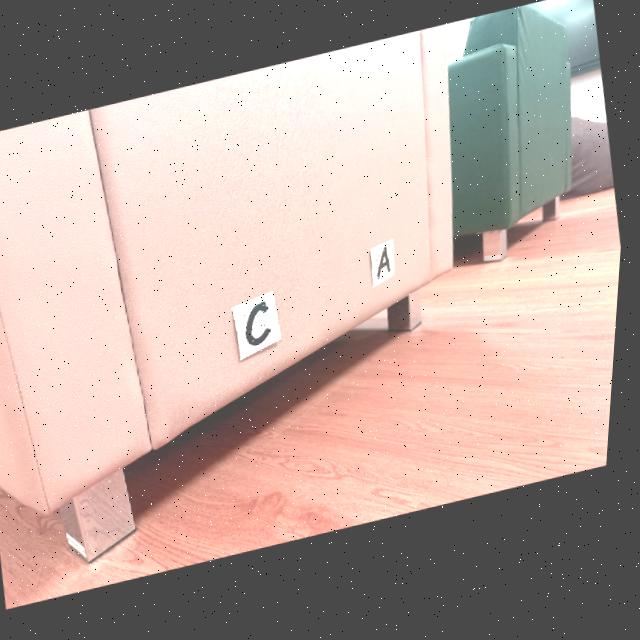A: (381, 252, 394, 283)
C: (250, 305, 275, 349)
